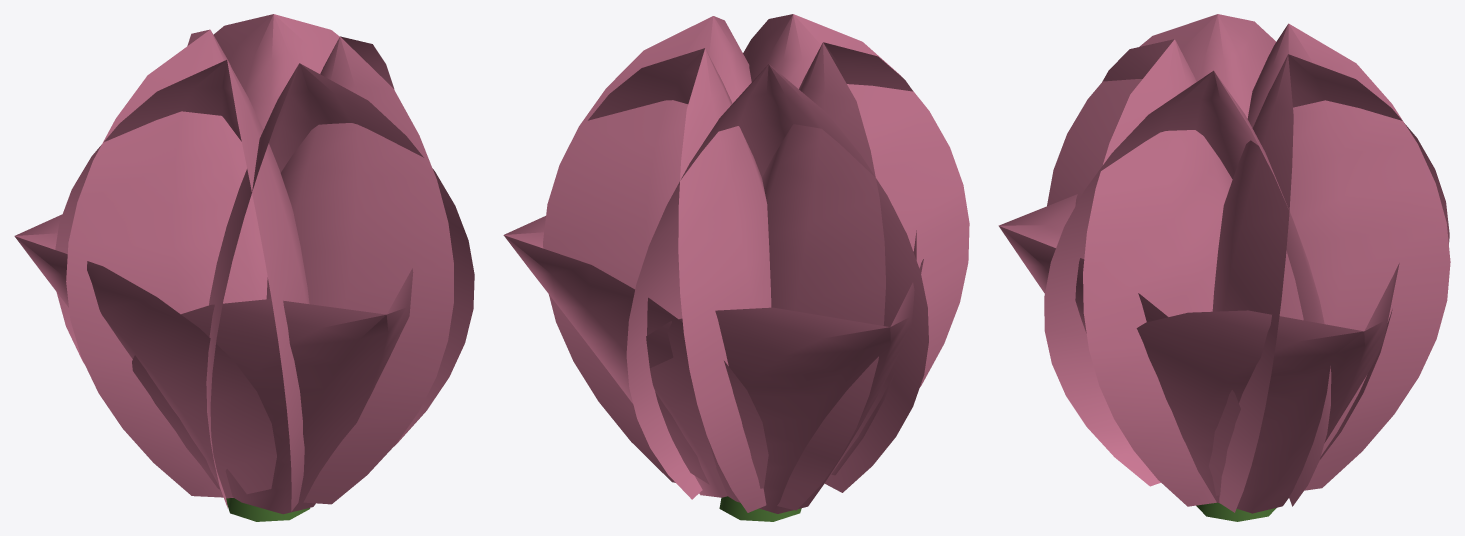
File: lotus_bud.glb
The picture shows the model from 3 angles, left to right: view 1: azimuth 30°, elevation 25°; view 2: azimuth 150°, elevation 25°; view 3: azimuth 270°, elevation 25°; orthographic projection.
Parts seen in each view (by area): view 1: lotus_bud, lotus_bud_stem; view 2: lotus_bud, lotus_bud_stem; view 3: lotus_bud, lotus_bud_stem.
Part boxes in pixels (left/top/right/bottom): lotus_bud: left=14, top=14, right=474, bottom=514; lotus_bud_stem: left=226, top=498, right=310, bottom=521; lotus_bud: left=503, top=14, right=969, bottom=513; lotus_bud_stem: left=719, top=496, right=801, bottom=521; lotus_bud: left=998, top=14, right=1450, bottom=513; lotus_bud_stem: left=1196, top=502, right=1276, bottom=521.
Bounding box in the file's own units: 0.1115 × 0.1287 × 0.1135.
